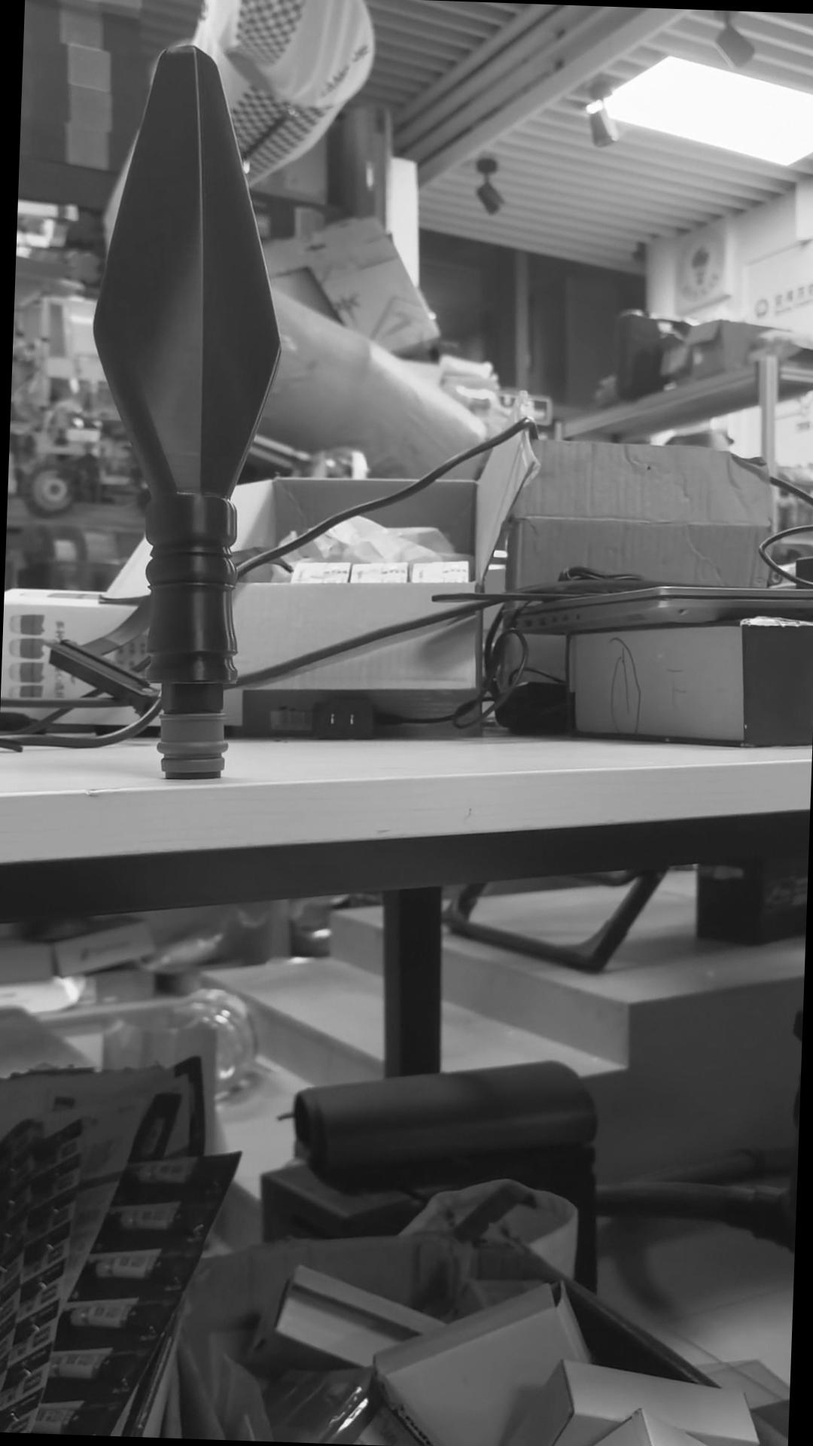base: (153, 702, 237, 790)
